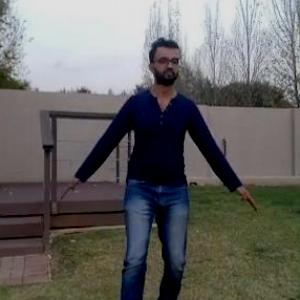land: (53, 32, 260, 299)
